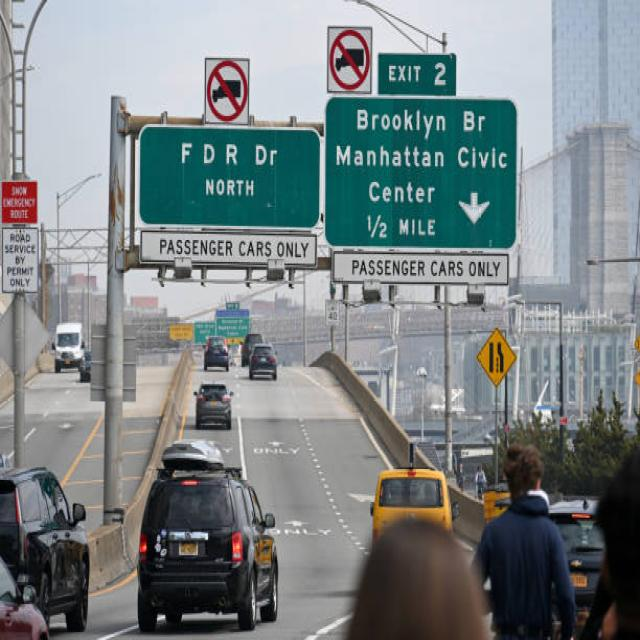Billboard_LHS: (0, 171, 46, 298)
Billboard_overhead: (329, 101, 531, 291), (132, 119, 323, 274)
Billboard_overhead_small: (188, 30, 262, 120), (323, 7, 378, 96), (380, 47, 461, 101)
Billboard_small: (467, 321, 524, 392), (207, 307, 254, 347), (164, 312, 195, 342)
Roadcorner: (330, 383, 403, 474), (59, 404, 107, 493)
Roadlane: (272, 380, 371, 589), (20, 366, 82, 455), (228, 371, 261, 476)
